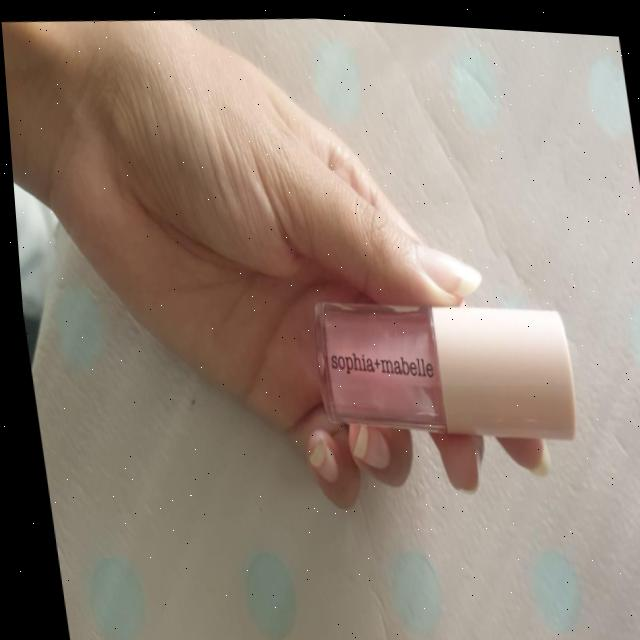lip gloss: (274, 264, 589, 468)
